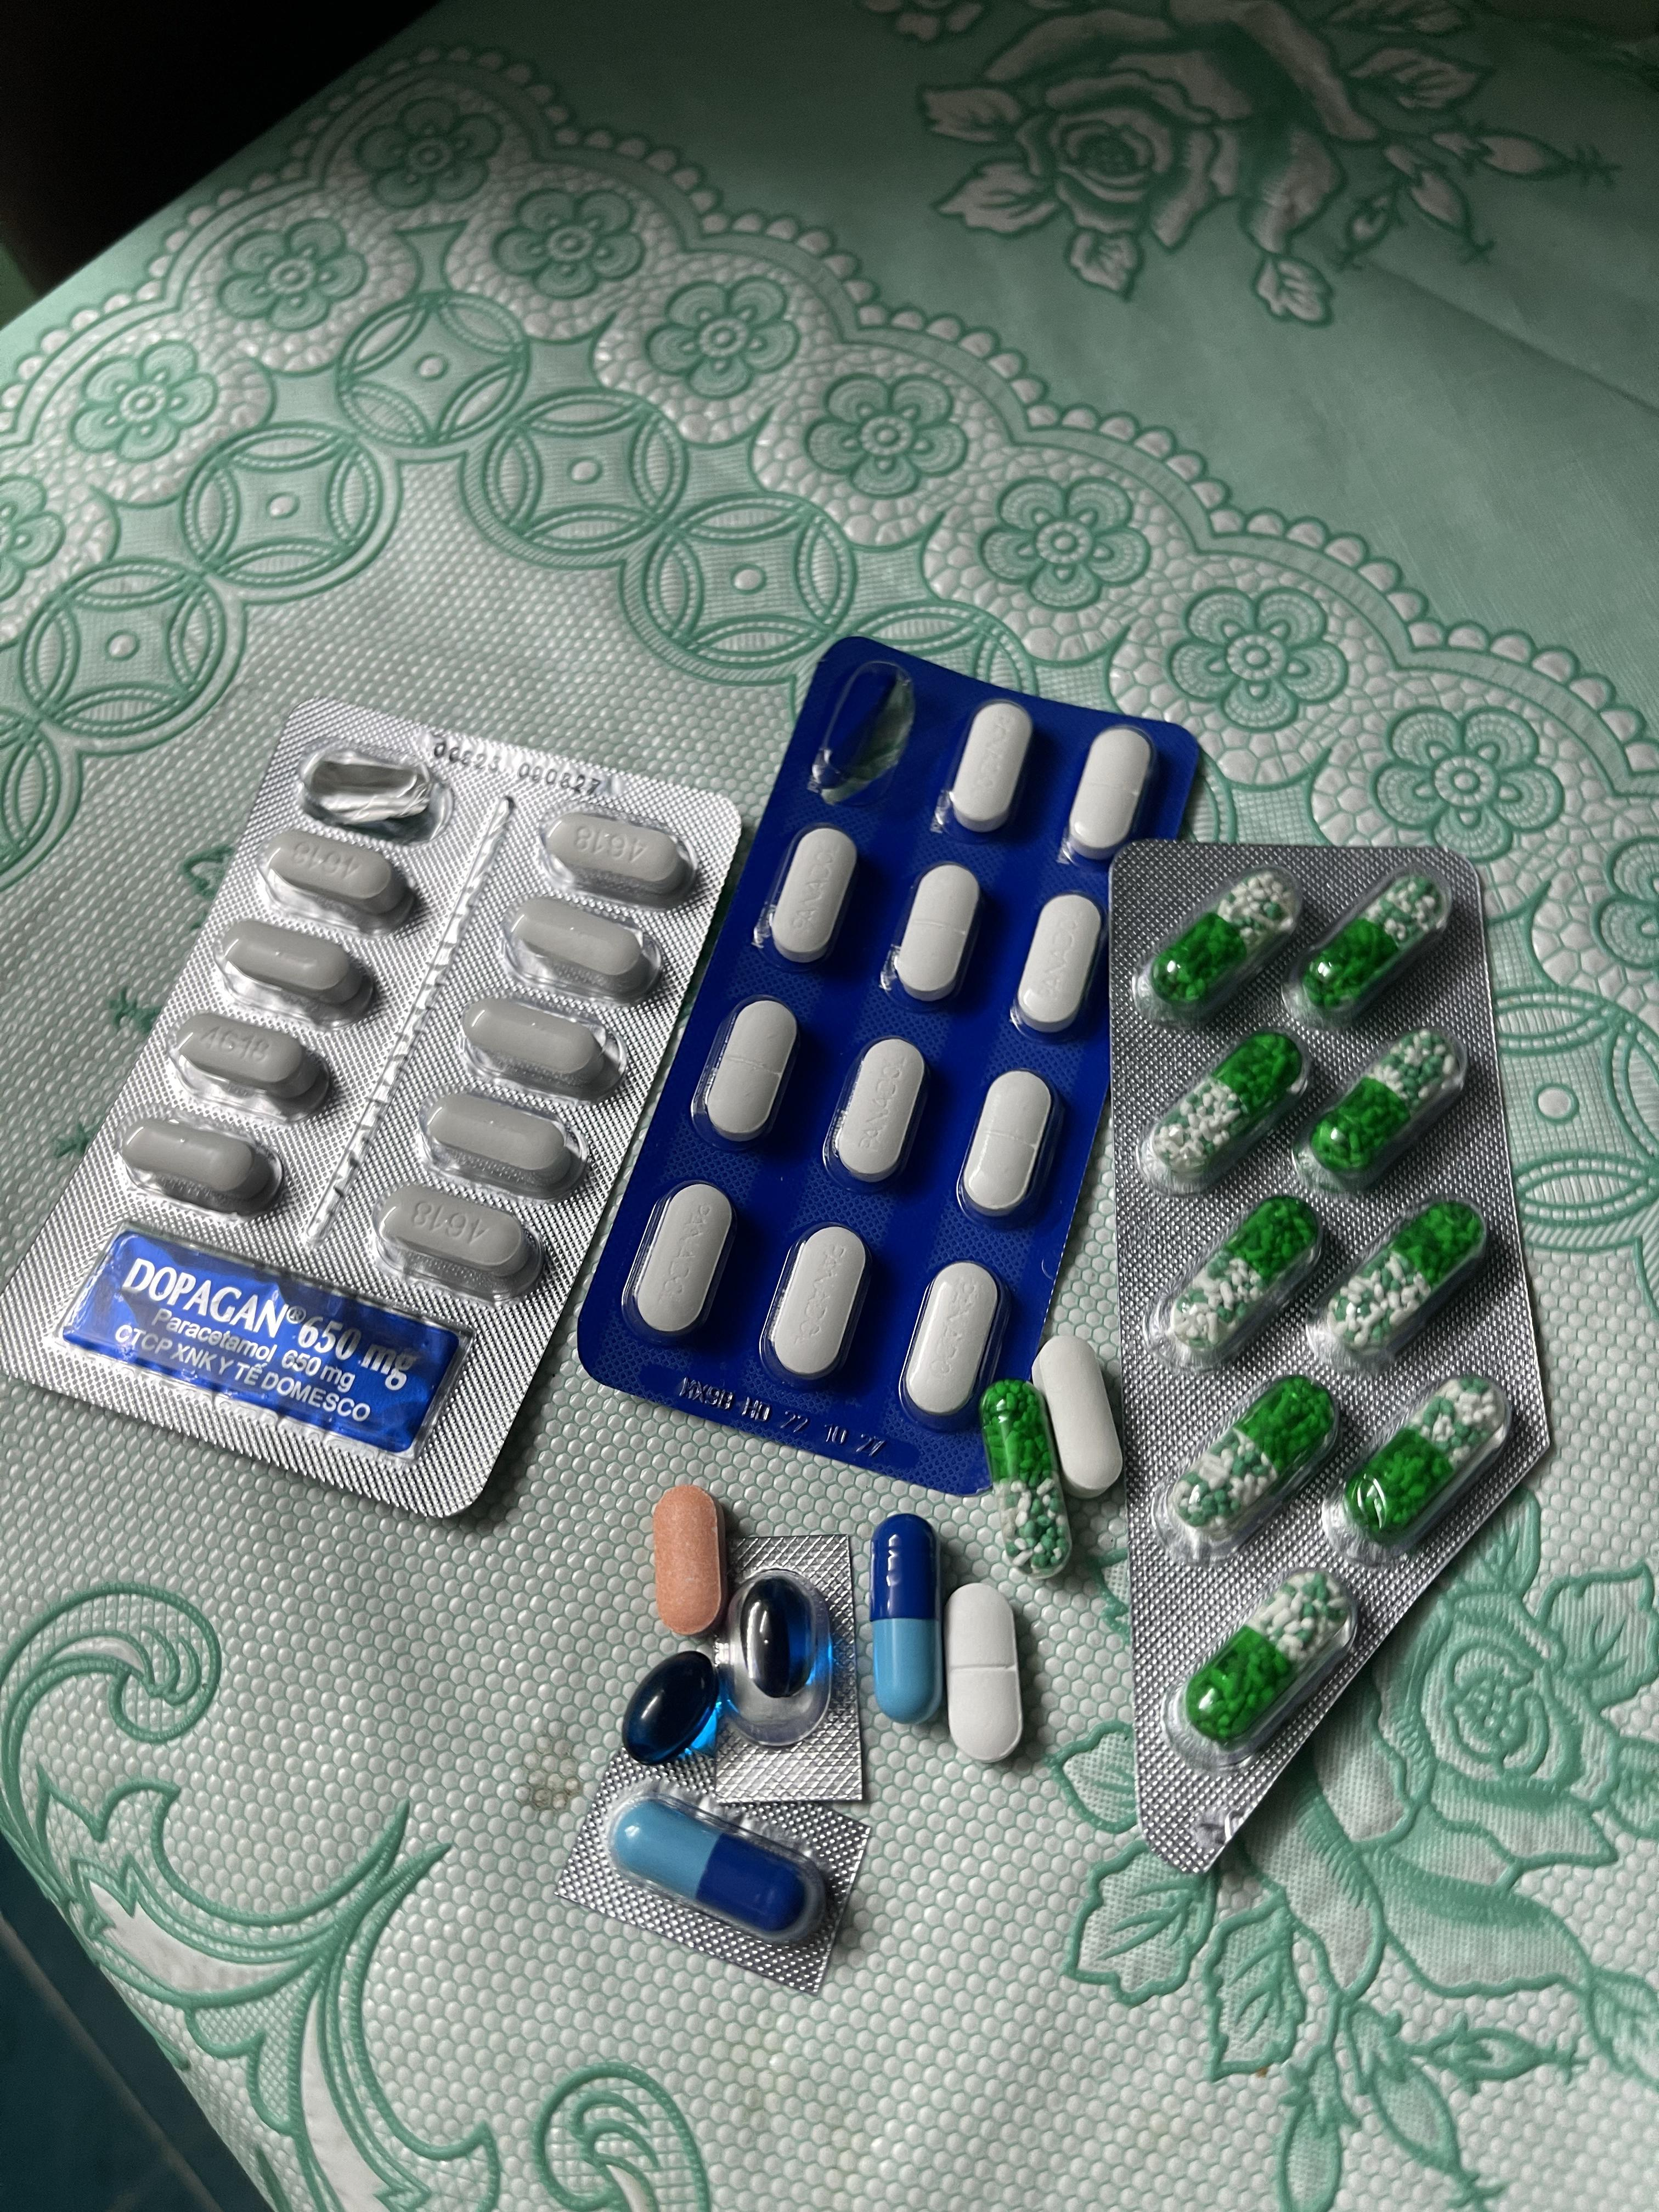Lincomyxin_500mg: (620, 1649, 723, 1768), (737, 1575, 819, 1700)
Loratadine_10mg: (652, 1487, 725, 1637)
Paracetamol_350mg: (760, 1226, 871, 1390), (624, 1186, 735, 1346), (901, 1261, 1007, 1425), (958, 1066, 1063, 1224), (826, 1038, 929, 1190), (702, 996, 800, 1148), (946, 1583, 1025, 1764), (763, 826, 859, 967), (1012, 894, 1105, 1038), (889, 864, 983, 1005), (1063, 726, 1155, 864), (945, 702, 1035, 836)
Paracetamol_500mg: (375, 1184, 544, 1306), (416, 1090, 587, 1202), (214, 918, 378, 1028), (167, 1015, 331, 1122), (458, 996, 620, 1103), (504, 895, 660, 1005), (117, 1113, 284, 1212), (260, 833, 415, 939), (540, 808, 697, 913), (1032, 1336, 1122, 1491)
Paracetamol_650mg: (1331, 1372, 1518, 1564), (1157, 1190, 1328, 1371), (1185, 1571, 1349, 1742), (1173, 1376, 1335, 1541), (1326, 1204, 1483, 1355), (1307, 1031, 1462, 1177), (1155, 1035, 1307, 1179), (1302, 878, 1448, 1014), (1155, 874, 1302, 1005), (976, 1386, 1070, 1576)
pill: (605, 1787, 833, 1947), (868, 1524, 941, 1723)
